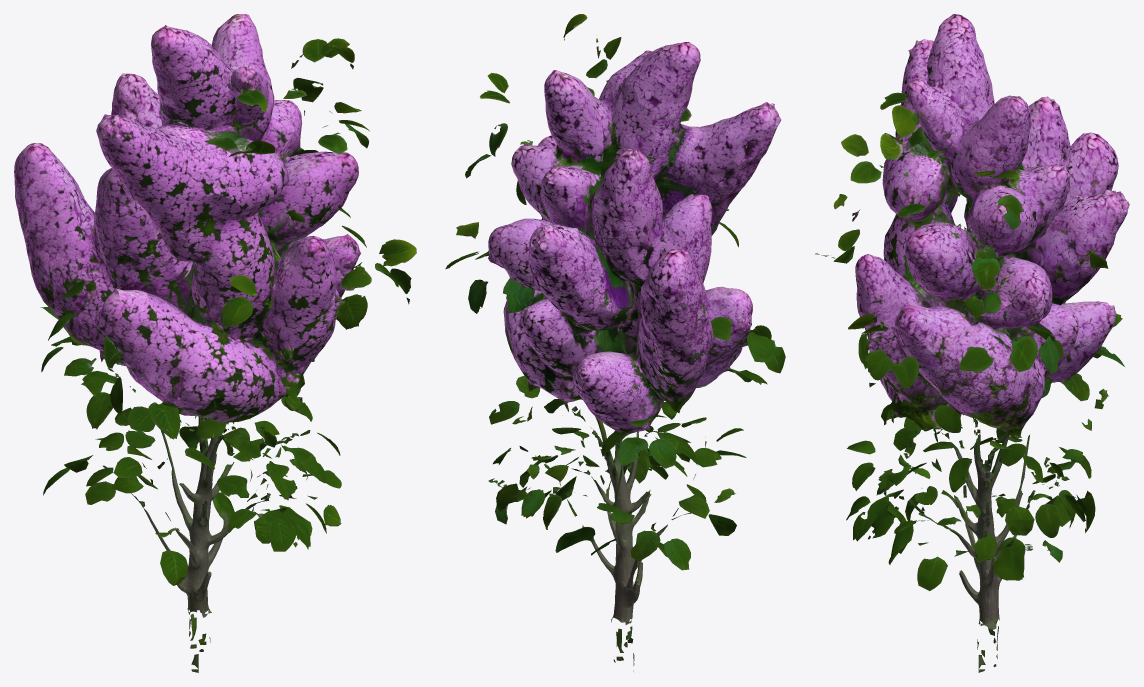
File: raw_meshy_model.glb
3 renders of one model, left to right at view 1: azimuth 30°, elevation 25°; view 2: azimuth 150°, elevation 25°; view 3: azimuth 270°, elevation 25°, orthographic. The views are drawn at different scales.
Bounding box in the file's own units: 0.9398 × 1.86 × 0.8318.
Materials: 1 (1 with a texture image).
